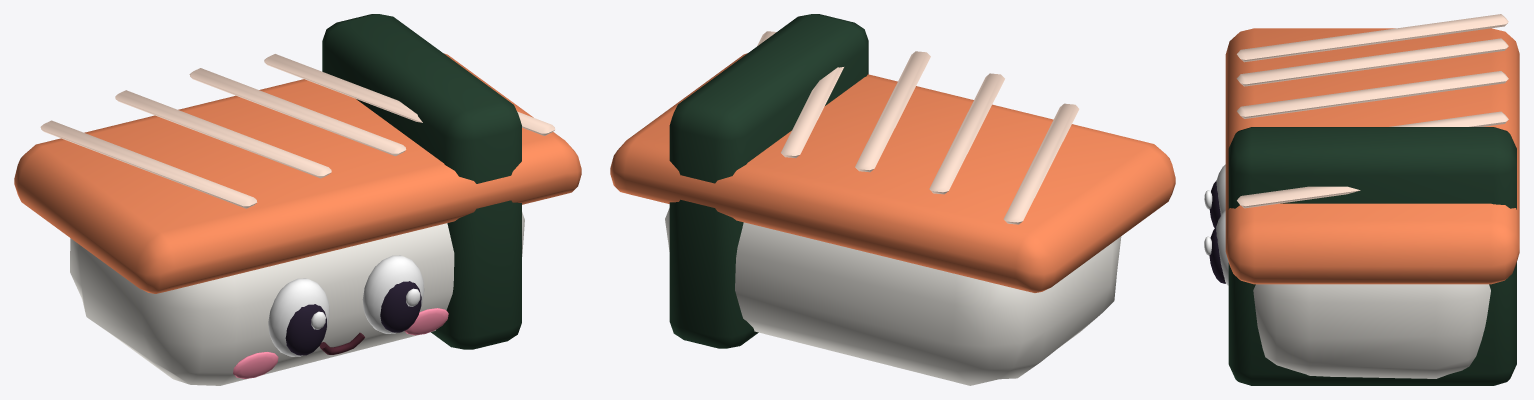
The model's file is Sushi.fbx.
3 renders of one model, left to right at view 1: azimuth 30°, elevation 25°; view 2: azimuth 150°, elevation 25°; view 3: azimuth 270°, elevation 25°, orthographic.
Parts seen in each view (by area): view 1: Salmon_FF8C5A, Nori_1F3B2A, Rice_FAF7F0, Stripes_FFE1CF, Eyes_FFFFFF, Pupils_241B2F, Blush_FF8FAB; view 2: Salmon_FF8C5A, Rice_FAF7F0, Nori_1F3B2A, Stripes_FFE1CF; view 3: Salmon_FF8C5A, Nori_1F3B2A, Rice_FAF7F0, Stripes_FFE1CF, Eyes_FFFFFF, Pupils_241B2F.
Part boxes in pixels (x1,y1,x2,y2): Salmon_FF8C5A: (14,53,581,293); Nori_1F3B2A: (322,14,521,349); Rice_FAF7F0: (70,212,524,385); Stripes_FFE1CF: (40,54,555,208); Eyes_FFFFFF: (268,255,424,356); Pupils_241B2F: (285,281,421,355); Blush_FF8FAB: (233,308,448,378); Salmon_FF8C5A: (610,53,1175,292); Rice_FAF7F0: (665,208,1121,385); Nori_1F3B2A: (669,14,868,348); Stripes_FFE1CF: (757,31,1079,224); Salmon_FF8C5A: (1225,28,1519,284); Nori_1F3B2A: (1228,127,1516,385); Rice_FAF7F0: (1253,284,1490,378); Stripes_FFE1CF: (1236,14,1508,208); Eyes_FFFFFF: (1216,164,1228,285); Pupils_241B2F: (1209,180,1225,283).
Bounding box in the file's own units: 1.78 × 0.92 × 1.09.
